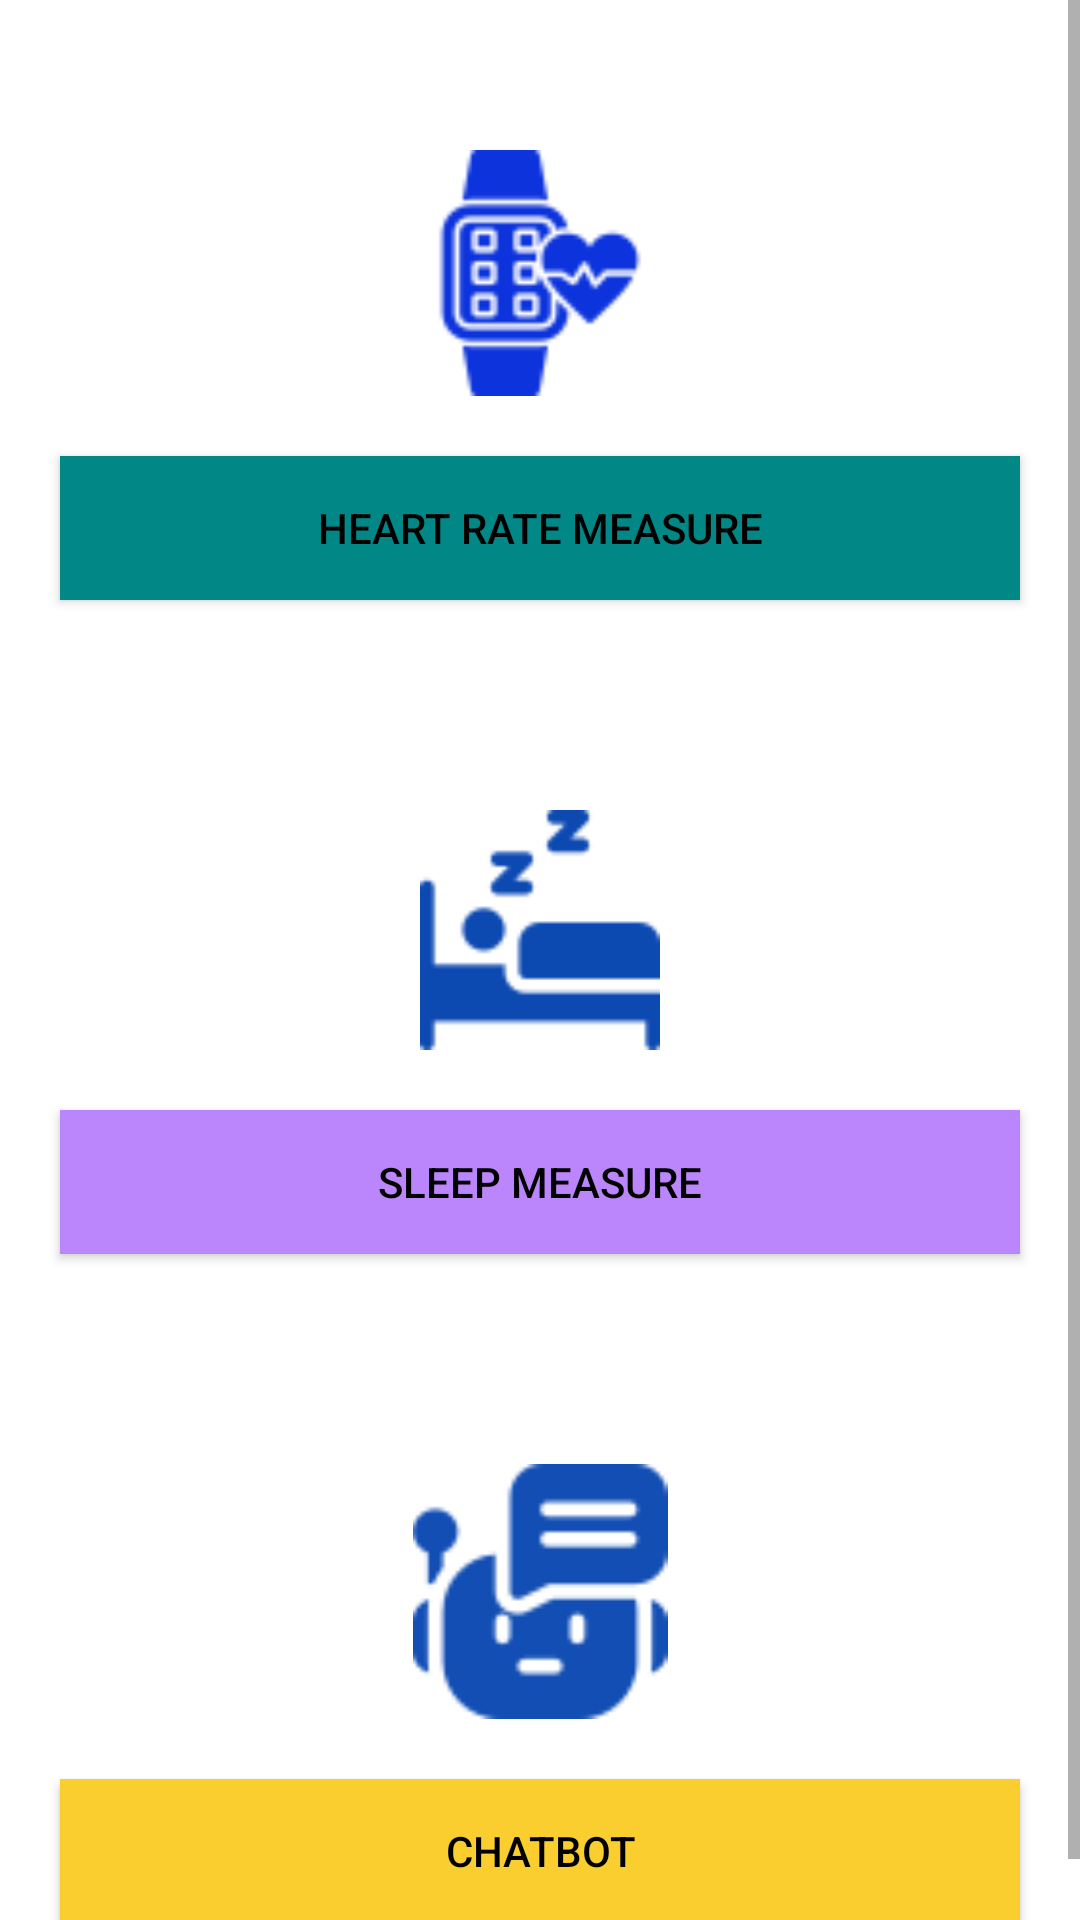

Point at icon controls on the screen. Image size 1080×1920, points as [x,y].
fitnessapp: [540,273]
